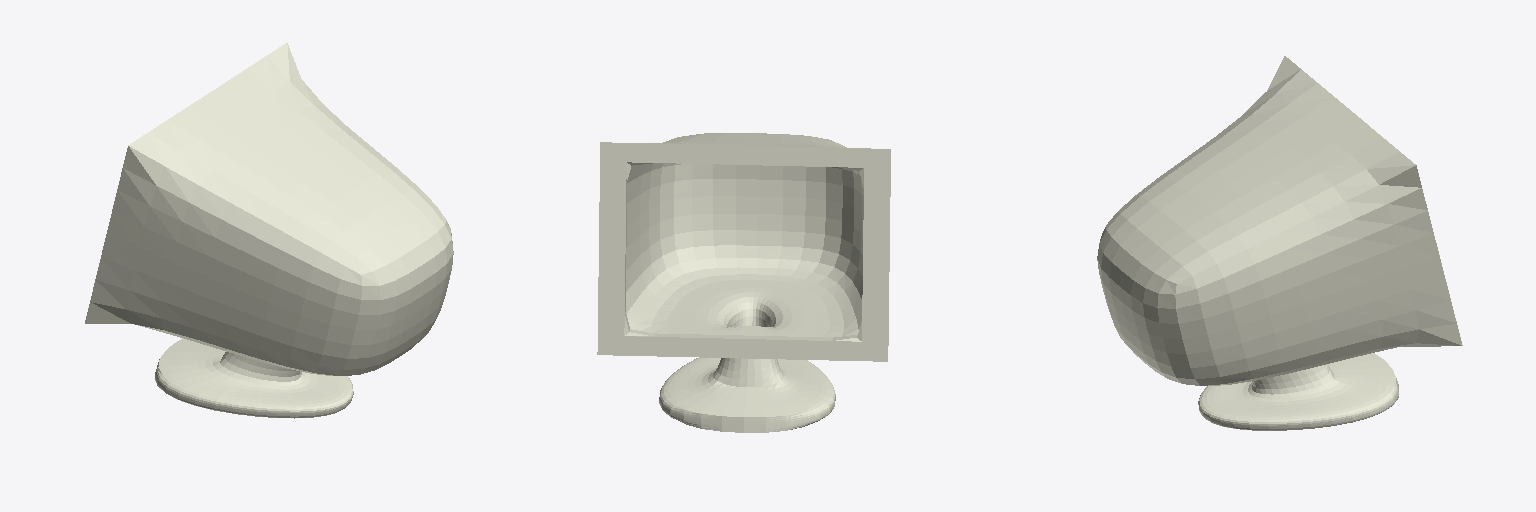
The picture shows the model from 3 angles: view 1: azimuth 30°, elevation 25°; view 2: azimuth 150°, elevation 25°; view 3: azimuth 270°, elevation 25°; orthographic projection.
Size of the model in its own units: 136 by 124 by 147.
1 materials, 1 textured.